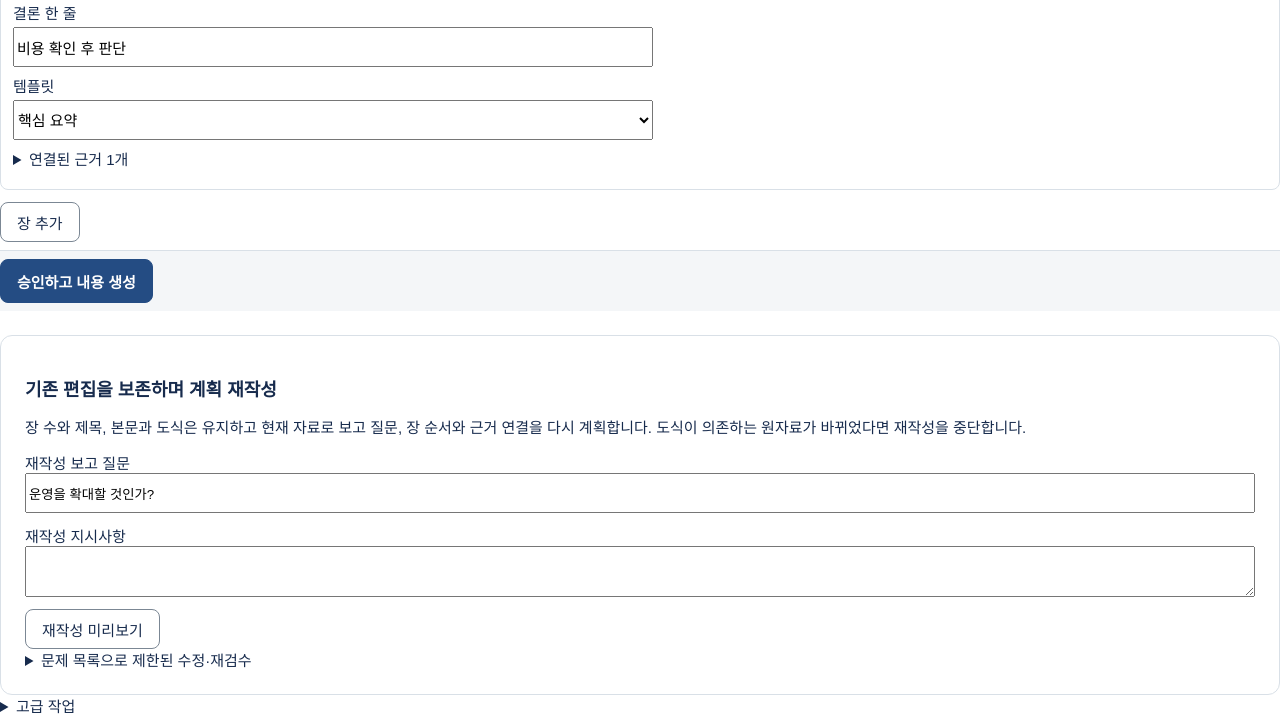
Test: 적용 실패 409는 후보를 보존하고 충돌만 부모에 전달한다
(page scrolled)
What coordinates should you click on to do the following:
click the button "재작성 미리보기"
I would click on:
 (92, 629)
Its box is 25,609 -> 160,649.
(page scrolled)
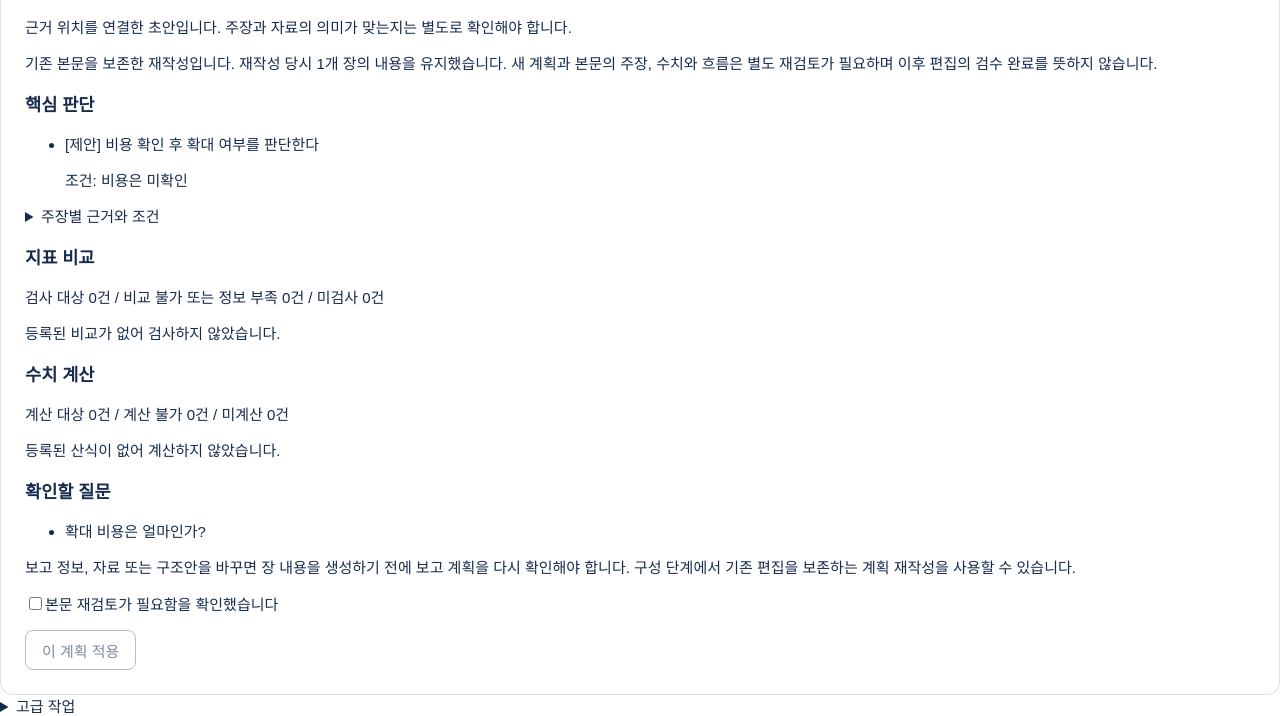
What coordinates should you click on to do the following:
click the checkbox labelled "본문 재검토가 필요함을 확인했습니다"
I would click on:
 (36, 604)
Its box is 29,597 -> 42,610.
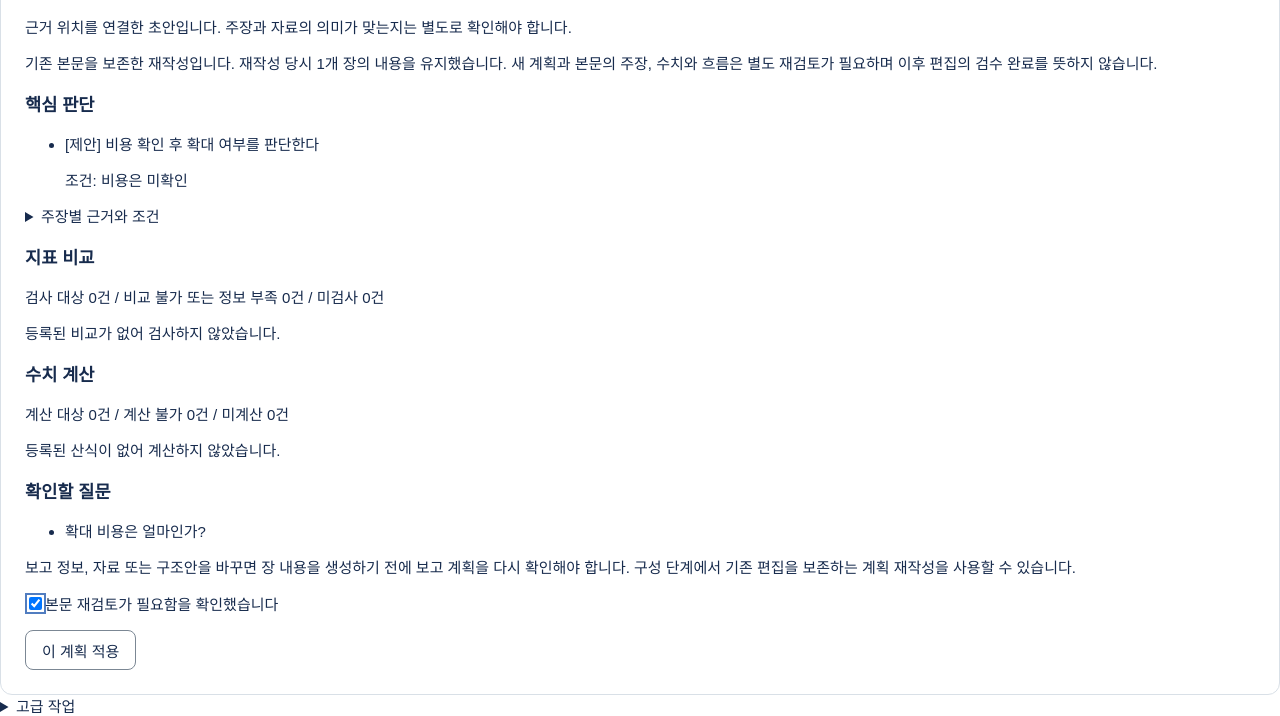
What coordinates should you click on to do the following:
click the button "이 계획 적용"
I would click on:
 (81, 650)
Its box is 25,630 -> 136,670.
(page scrolled)
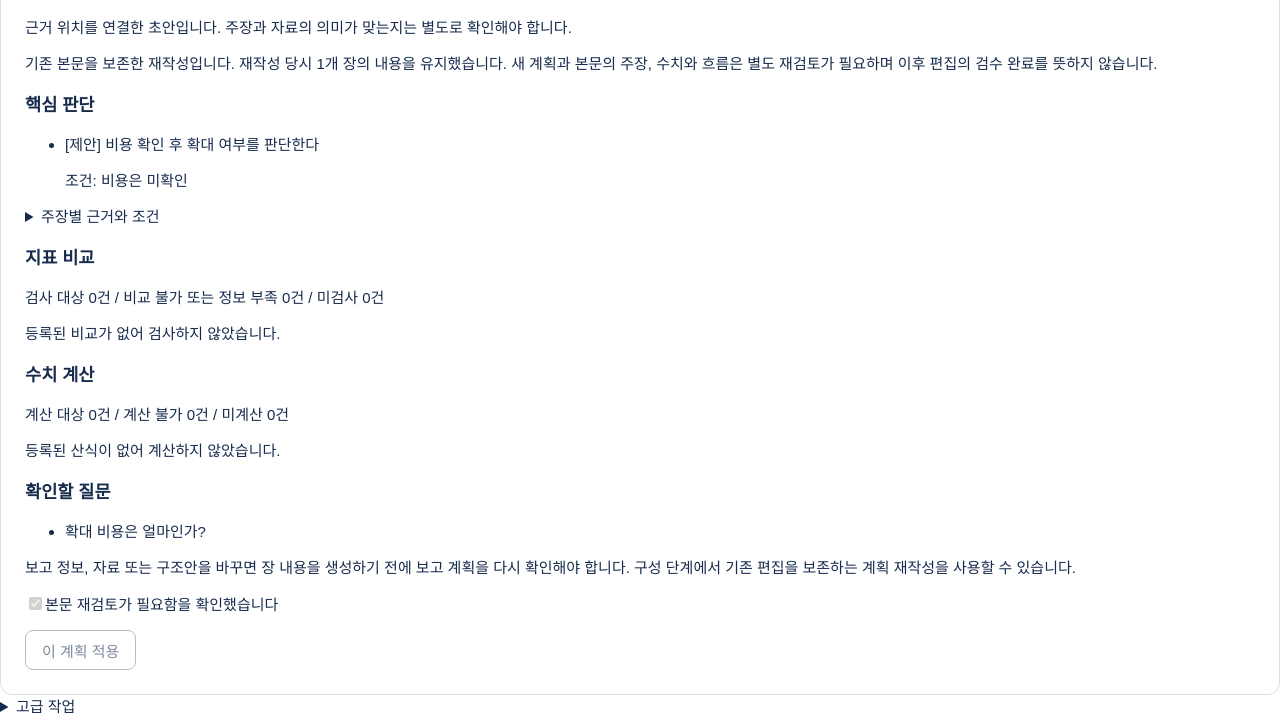
Expected: the button "이 계획 적용" is disabled, 25,630 -> 136,670
